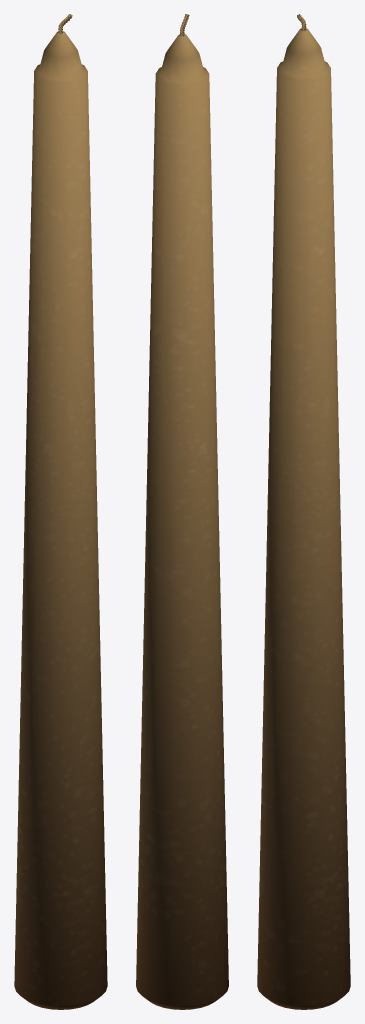
Rendered from candle_stick.fbx.
3 renders of one model, left to right at view 1: azimuth 90°, elevation 25°; view 2: azimuth 150°, elevation 25°; view 3: azimuth 330°, elevation 25°, orthographic.
Parts seen in each view (by area): view 1: Candle_Stick; view 2: Candle_Stick; view 3: Candle_Stick.
Part boxes in pixels (bbox=[...]): Candle_Stick: bbox=[14, 14, 107, 1009]; Candle_Stick: bbox=[136, 14, 228, 1009]; Candle_Stick: bbox=[257, 14, 350, 1009].
Bounding box in the file's own units: 4.22 × 49.01 × 4.22.
Materials: 1 (1 with a texture image).
